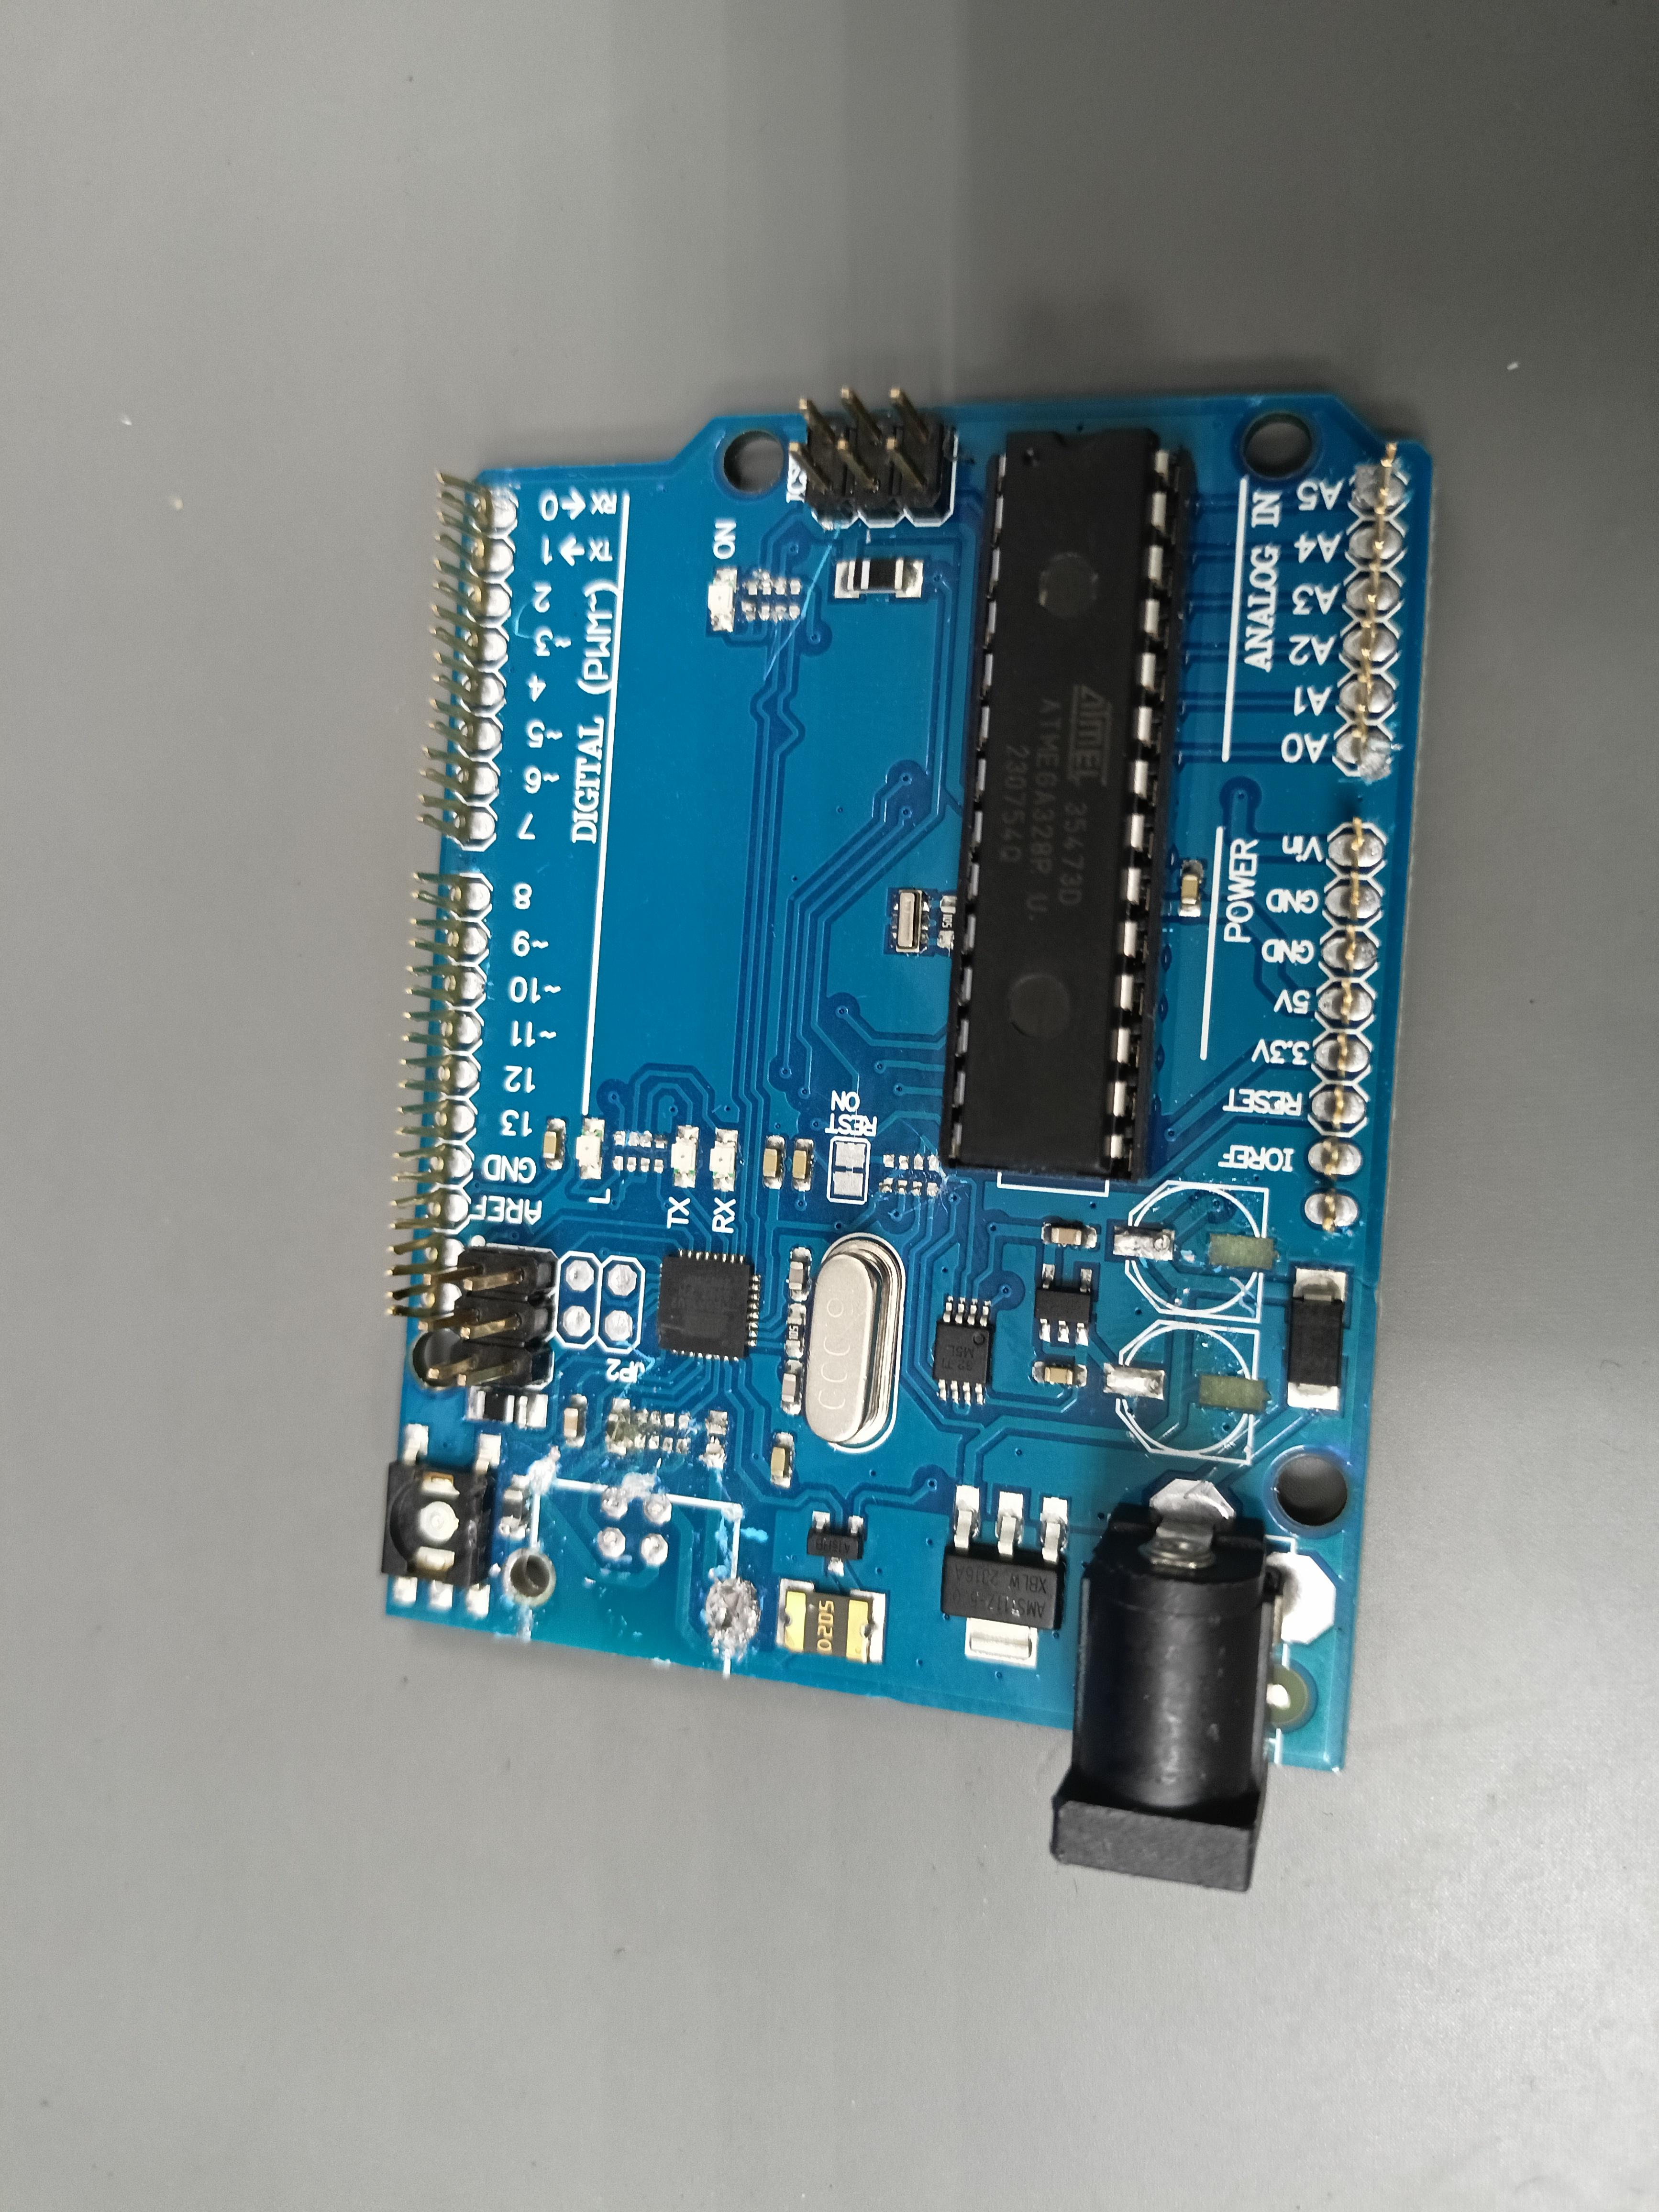ATmega328 chip: (938, 427, 1194, 1183)
Arduino board: (382, 388, 1432, 1892)
